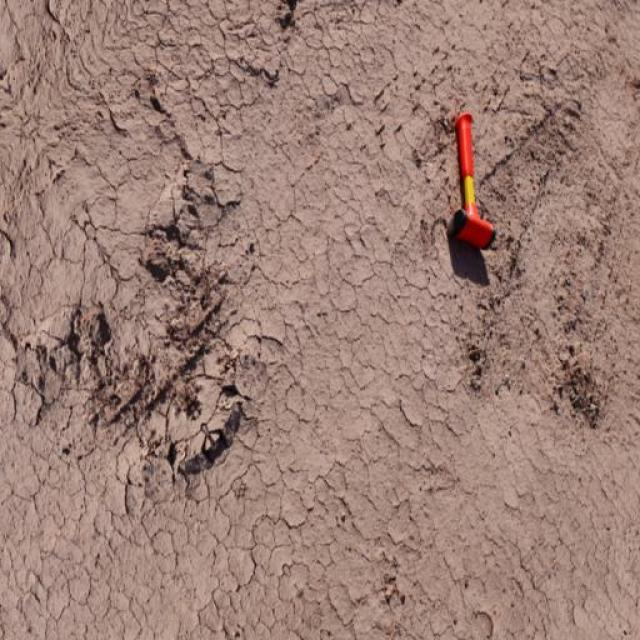mallet: (445, 110, 496, 250)
